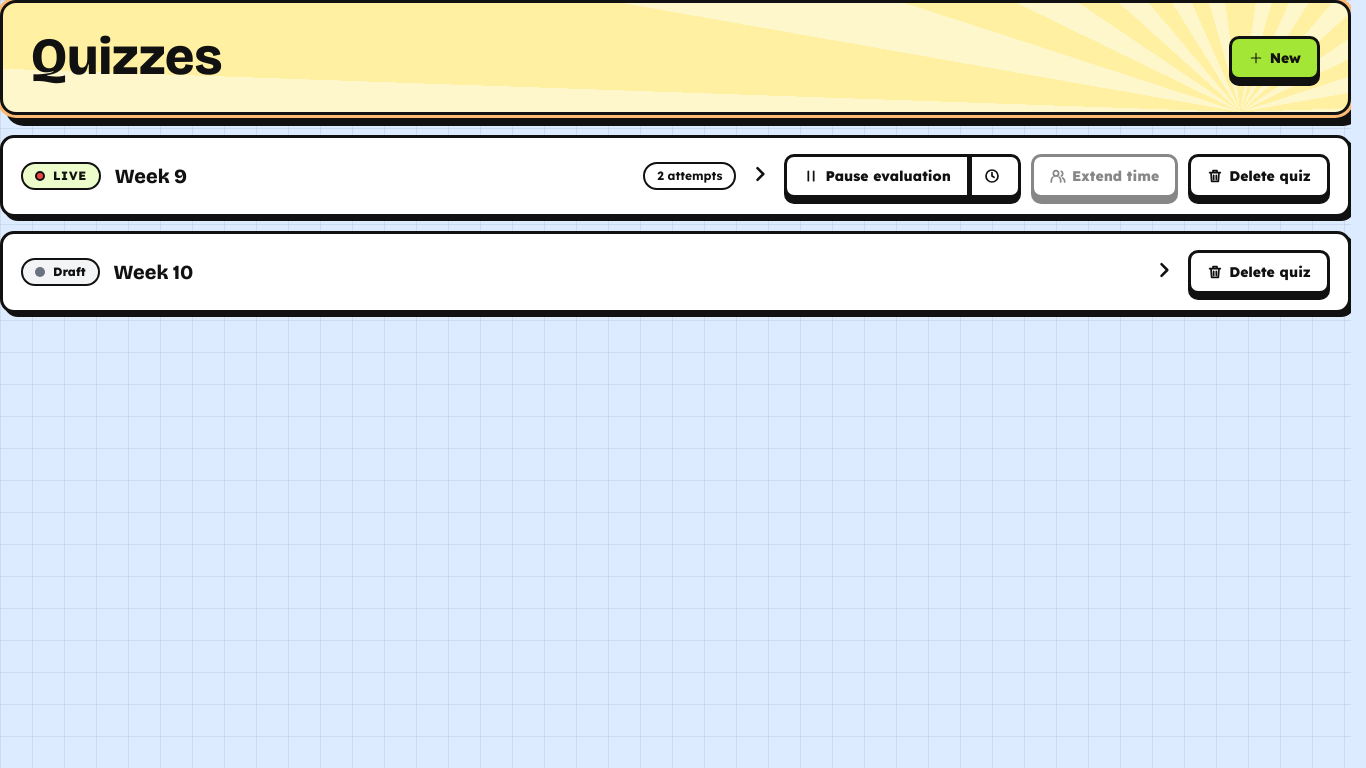
Test: teacher Quiz delete › keeps the row when the delete is refused, and ignores a second click
The image size is (1366, 768).
Expected: the text "Week 9" is shown, left=115, top=164, right=187, bottom=188
Step 1. Click the button "Delete quiz" in the row of "LIVE" → (1259, 176), box left=1188, top=154, right=1330, bottom=198
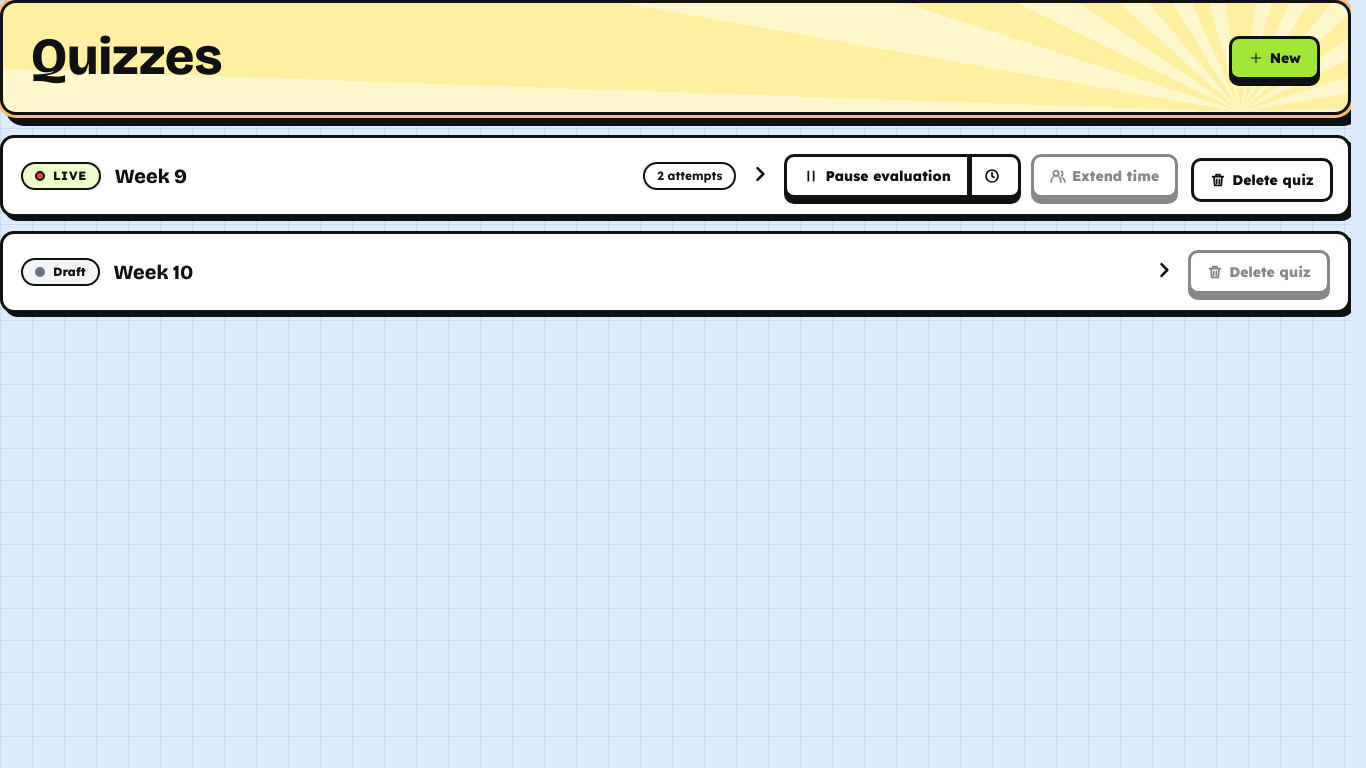
Step 2. Click the button "Delete quiz" in the row of "LIVE" → (1262, 180), box left=1191, top=158, right=1333, bottom=202
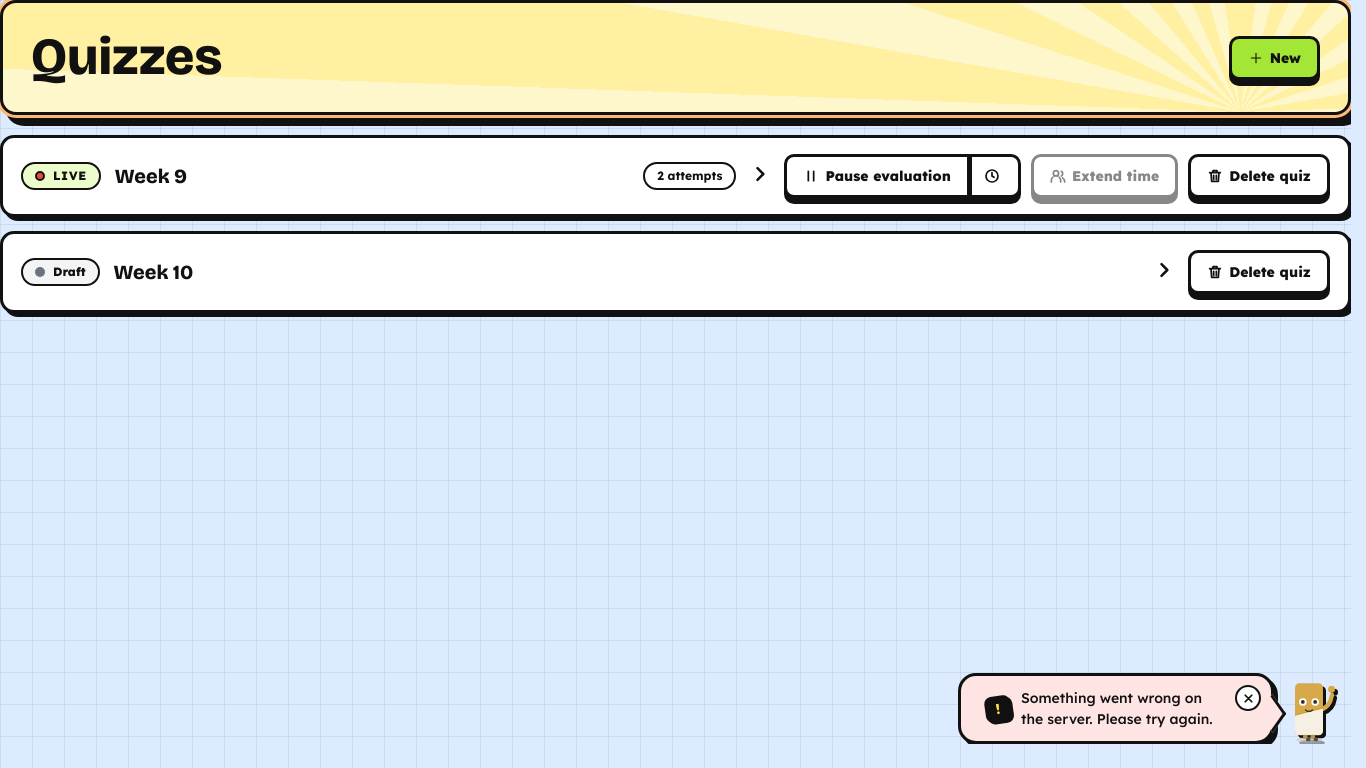
Expected: the text "Week 9" is shown, left=115, top=164, right=187, bottom=188
Result: the text "Something went wrong on the server. Please try again." is shown at left=1021, top=688, right=1225, bottom=729
